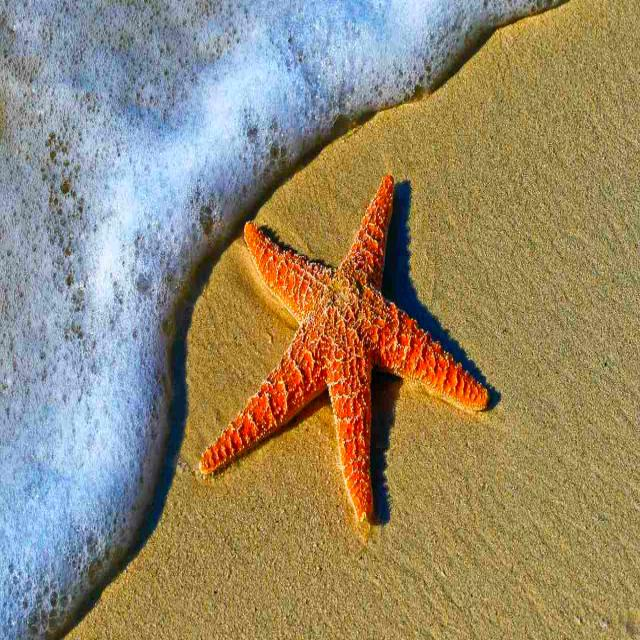starfish: (199, 174, 490, 526)
